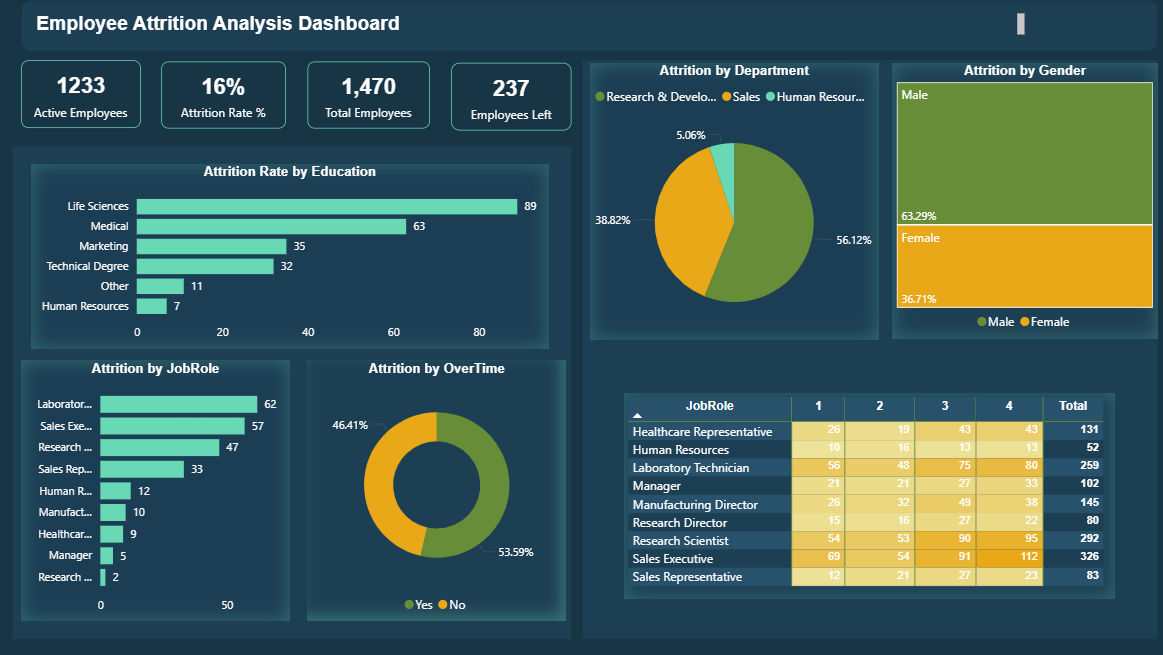

This screenshot's page, from the dashboard's own definition file:
{"tool":"powerbi","page":{"name":"Attrition Analysis Dashboard","canvas":[1280,720],"ordinal":1},"visuals":[{"type":"shape","box":[23.3,0,1247.3,57.6],"z":0},{"type":"card","fields":{"Values":["Measure_Table.Total Employee"]},"box":[337.3,68.4,134.4,73.4],"z":0,"group":"g1"},{"type":"card","fields":{"Values":["Measure_Table.Attrition Rate %"]},"box":[177.5,68.4,136.7,73.4],"z":1000,"group":"g1"},{"type":"textbox","box":[34.9,11.6,1095.4,33.7],"z":1000},{"type":"card","fields":{"Values":["Measure_Table.Active Employees"]},"box":[23.3,67.2,131,74.5],"z":2000,"group":"g1"},{"type":"shape","box":[639.5,67.2,631.2,635.3],"z":2000},{"type":"card","fields":{"Values":["Measure_Table.Employees Left"]},"box":[494.9,69.5,132.1,74.5],"z":3000,"group":"g1"},{"type":"group","id":"g1","title":"Group 1","box":[23.3,67.2,603.8,76.8],"z":3000},{"type":"shape","box":[13.7,161.9,613.4,540.7],"z":4000},{"type":"barChart","title":"Attrition Rate by Education","fields":{"Category":["HR_Employee_Attrition.EducationField"],"Y":["Measure_Table.Attrition Count"]},"box":[34.3,181.1,568.1,203.1],"z":5000},{"type":"treemap","title":"Attrition by Gender","fields":{"Group":["HR_Employee_Attrition.Gender"],"Values":["Divide(Measure_Table.Attrition Count, ScopedEval(Measure_Table.Attrition Count, []))"]},"box":[979.8,70,290.9,303.3],"z":6000},{"type":"pieChart","title":"Attrition by Department","fields":{"Category":["HR_Employee_Attrition.Department"],"Y":["Measure_Table.Attrition Count"]},"box":[647.7,70,317,304.6],"z":7000},{"type":"clusteredBarChart","title":"Attrition by JobRole","fields":{"Category":["HR_Employee_Attrition.JobRole"],"Y":["Measure_Table.Attrition Count"]},"box":[23.3,396.6,295,286.8],"z":8000},{"type":"pivotTable","title":"Employee by Business Travel","fields":{"Rows":["HR_Employee_Attrition.JobRole"],"Columns":["HR_Employee_Attrition.JobSatisfaction"],"Values":["CountNonNull(HR_Employee_Attrition.EmployeeNumber)"]},"box":[684.7,432.2,539.3,226.4],"z":9000},{"type":"donutChart","title":"Attrition by OverTime","fields":{"Y":["Divide(Measure_Table.Attrition Count, ScopedEval(Measure_Table.Attrition Count, []))"],"Category":["HR_Employee_Attrition.OverTime"]},"box":[337.6,396.6,284,286.8],"z":10000}]}

Visuals, with their boxes in screenshot pixels (x1, y1, x2, y2), scaled from the page's 1280x720 canvas onto the 1163x655 screenshot:
shape: <region>21, 0, 1154, 52</region>
card - Measure_Table.Total Employee: <region>306, 62, 429, 129</region>
card - Measure_Table.Attrition Rate %: <region>161, 62, 285, 129</region>
textbox: <region>32, 11, 1027, 41</region>
card - Measure_Table.Active Employees: <region>21, 61, 140, 129</region>
shape: <region>581, 61, 1155, 639</region>
card - Measure_Table.Employees Left: <region>450, 63, 570, 131</region>
"Group 1" group: <region>21, 61, 570, 131</region>
shape: <region>12, 147, 570, 639</region>
"Attrition Rate by Education" barChart: <region>31, 165, 547, 350</region>
"Attrition by Gender" treemap: <region>890, 64, 1155, 340</region>
"Attrition by Department" pieChart: <region>588, 64, 877, 341</region>
"Attrition by JobRole" clusteredBarChart: <region>21, 361, 289, 622</region>
"Employee by Business Travel" pivotTable: <region>622, 393, 1112, 599</region>
"Attrition by OverTime" donutChart: <region>307, 361, 565, 622</region>
